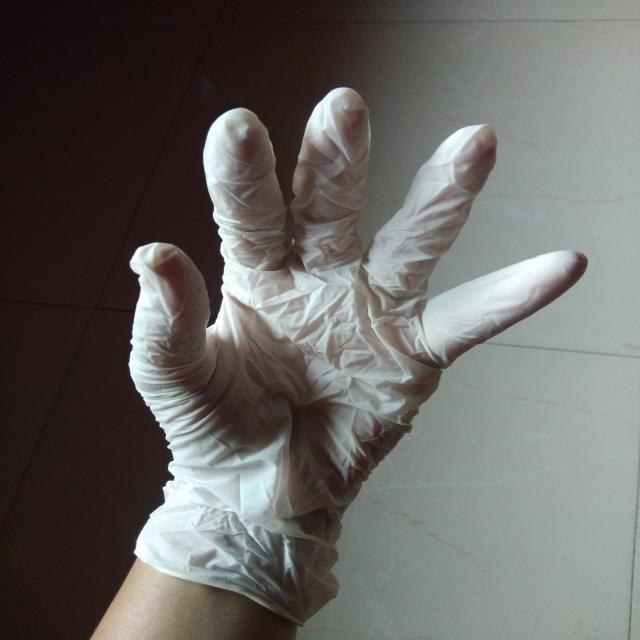glove_hand: (111, 78, 594, 621)
